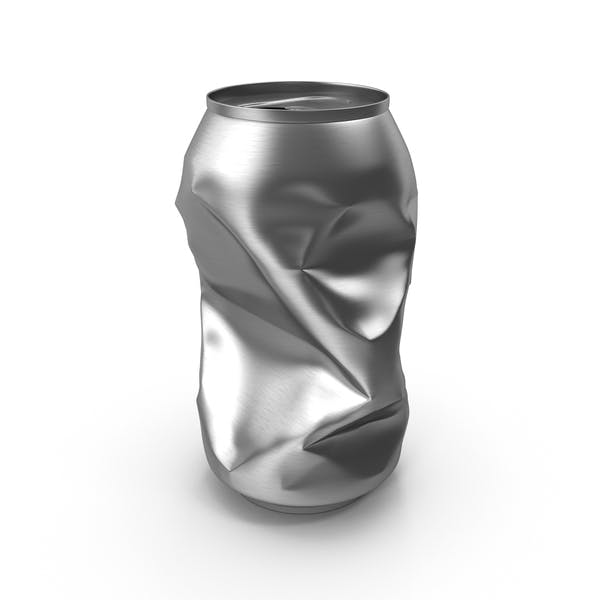can: (175, 82, 419, 516)
